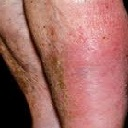Cellulitis: (42, 49, 71, 98), (12, 54, 33, 95)
